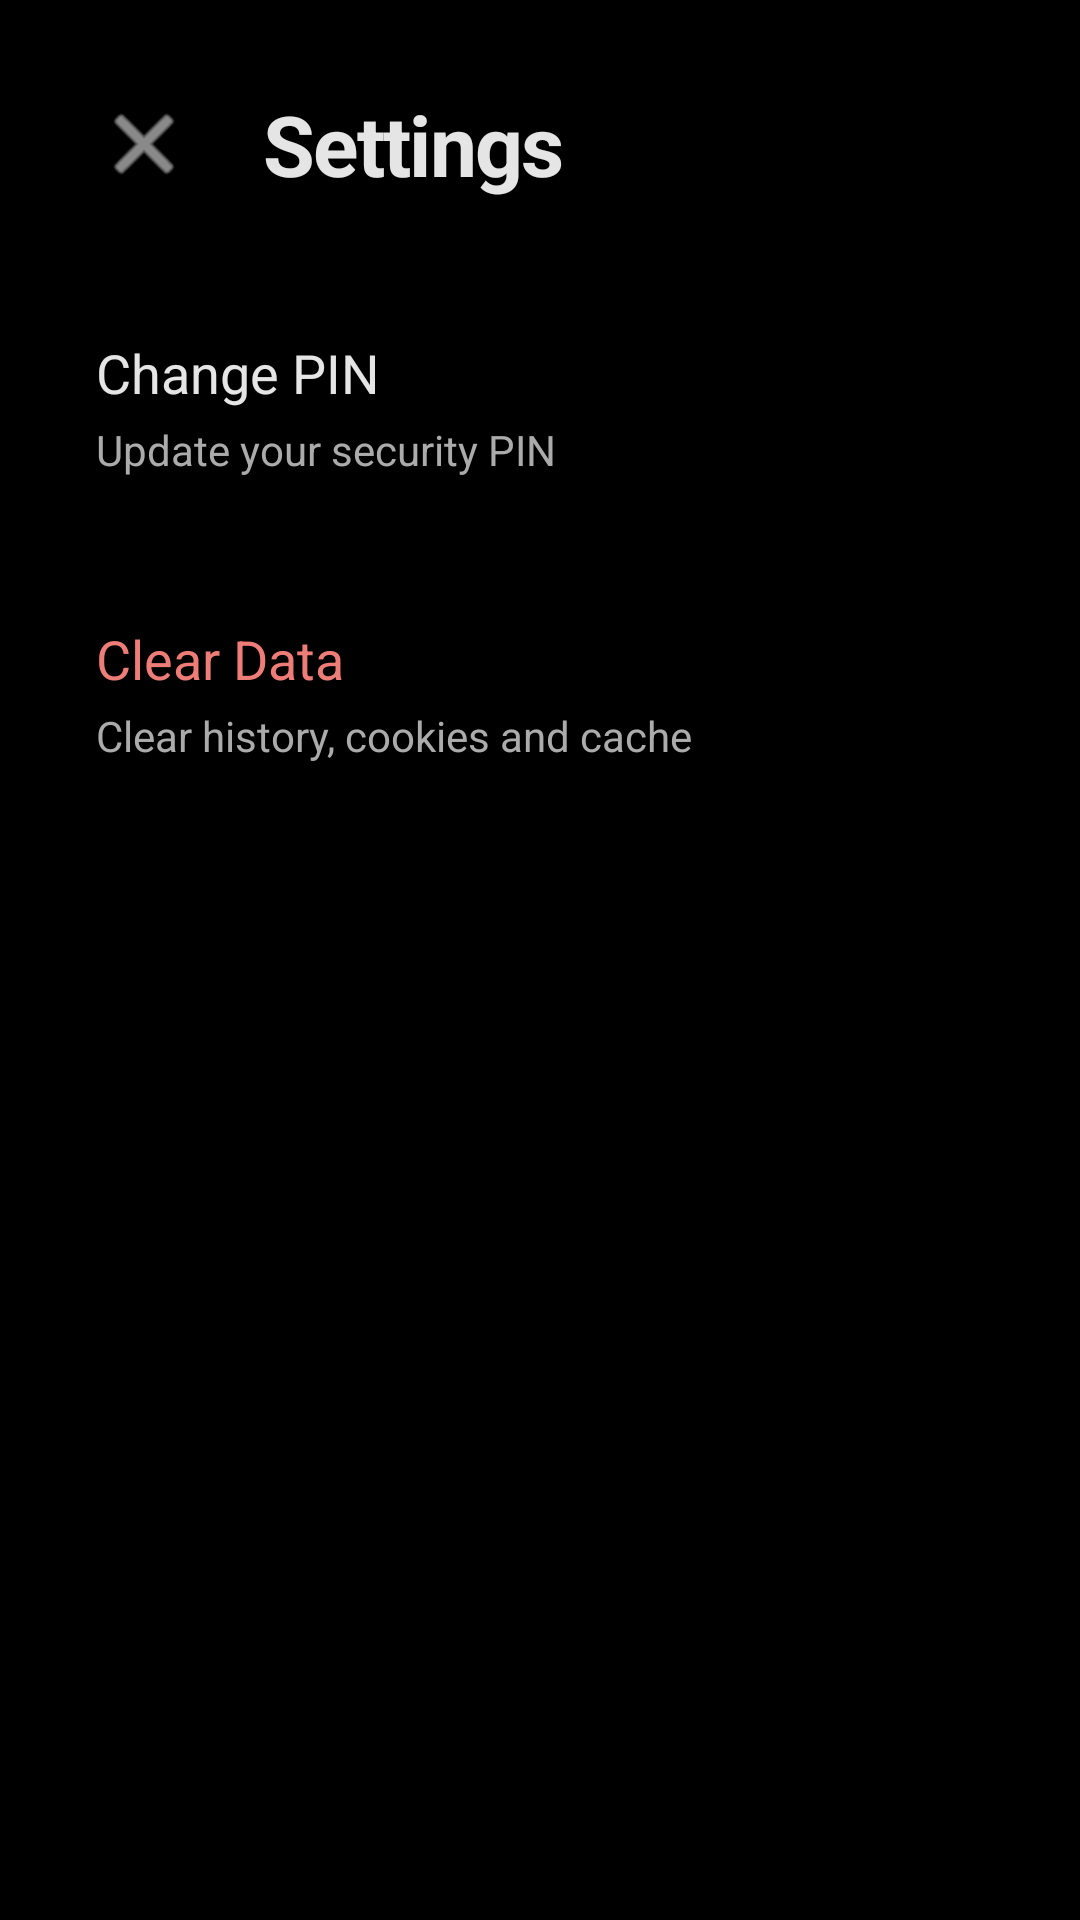

Where icons sit on this 1080w x 1920h app screen, as (x1, y1, x2, y2):
close clear cancel: (114, 114, 174, 174)
